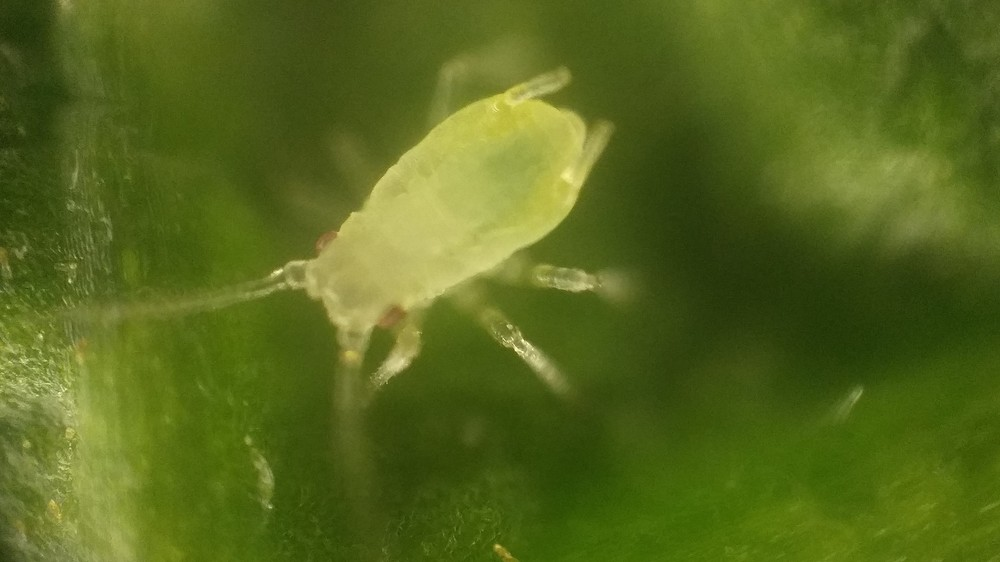Pulgon: (155, 15, 692, 455)
